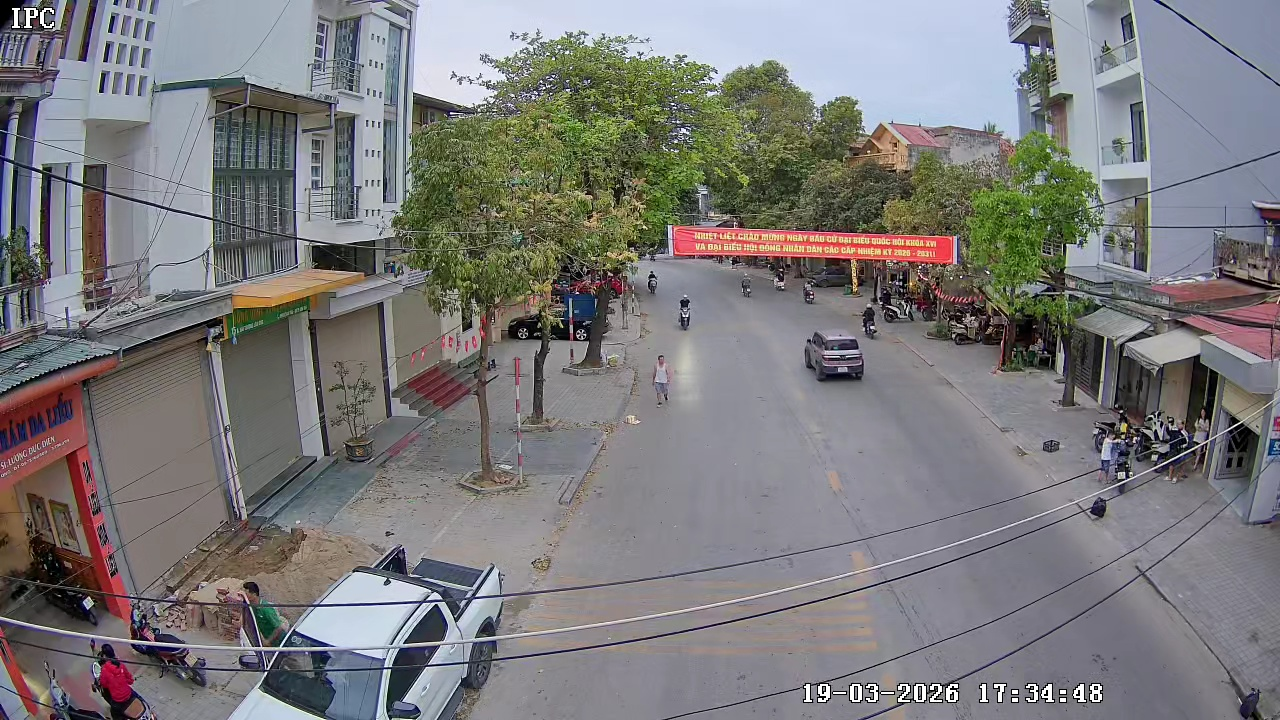bike: (651, 353, 673, 405)
car: (806, 328, 866, 381)
motorbike: (676, 294, 692, 330), (862, 304, 878, 339), (643, 271, 662, 298), (740, 272, 753, 298)
